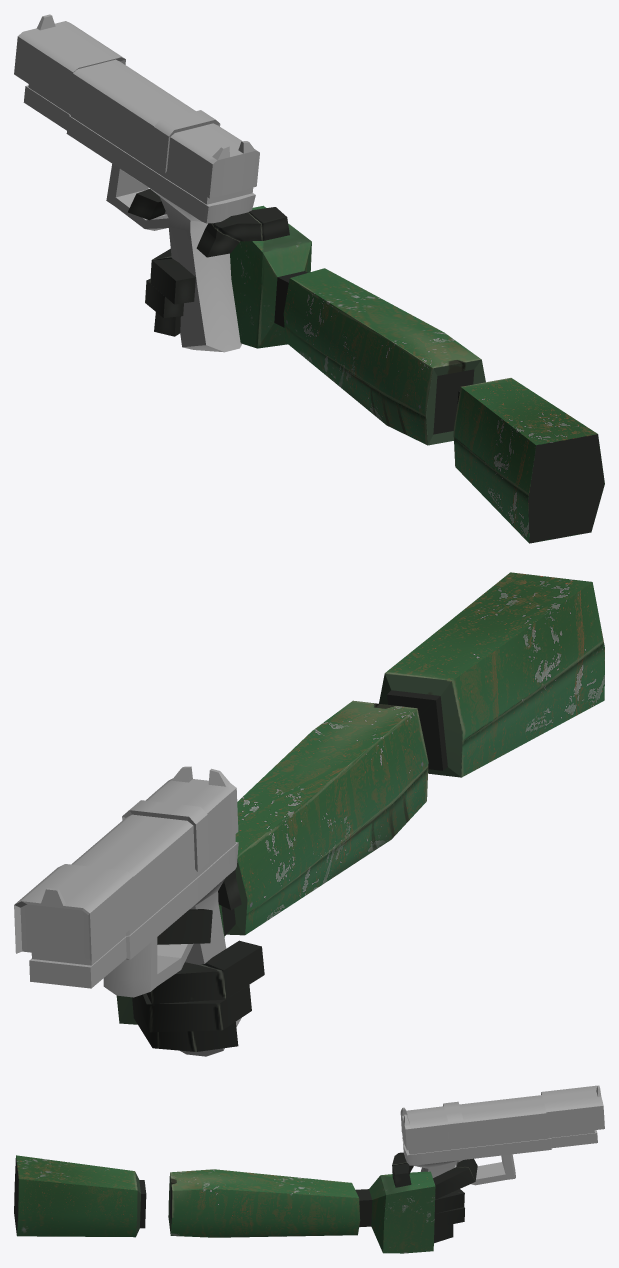
The model's file is Seperated_BaseGun+Arm.fbx.
The picture shows the model from 3 angles, top to bottom: view 1: azimuth 30°, elevation 25°; view 2: azimuth 150°, elevation 25°; view 3: azimuth 270°, elevation 25°; orthographic projection. The views are drawn at different scales.
Visible parts, largest first — view 1: Arm, Gun; view 2: Arm, Gun; view 3: Arm, Gun.
Boxes of the visible parts, x1,y1,x2,y2 form: Arm: [128, 189, 604, 543]; Gun: [14, 14, 259, 352]; Arm: [116, 572, 604, 1051]; Gun: [14, 766, 241, 1056]; Arm: [14, 1152, 477, 1253]; Gun: [400, 1085, 604, 1185].
Size of the model in its own units: 0.1341 by 0.2229 by 0.7948.
Materials: 2 (1 with a texture image).
